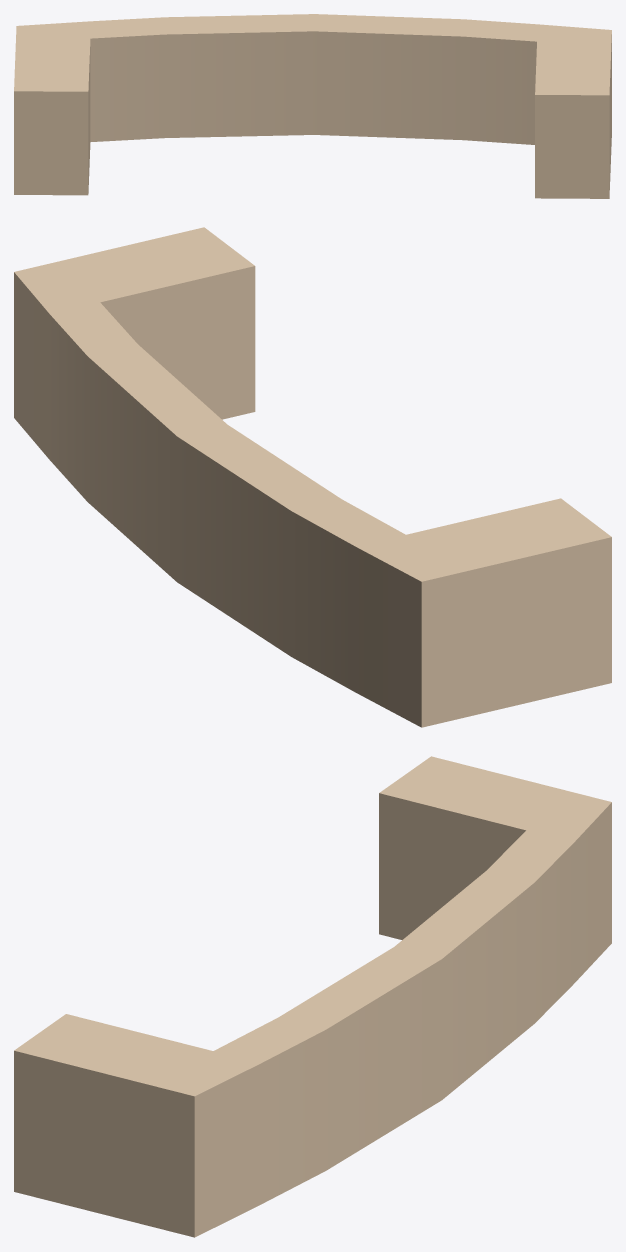
The model's file is ceiling_piece_by_door.fbx.
3 views of the same model, one above another, from view 1: azimuth 30°, elevation 25°; view 2: azimuth 150°, elevation 25°; view 3: azimuth 270°, elevation 25° (orthographic). The views are drawn at different scales.
Parts seen in each view (by area): view 1: pCube25; view 2: pCube25; view 3: pCube25.
Boxes of the visible parts, x1=… form: pCube25: x1=14, y1=14, x2=611, y2=198; pCube25: x1=14, y1=227, x2=611, y2=727; pCube25: x1=14, y1=756, x2=611, y2=1237.
Bounding box in the file's own units: 1 × 0.1946 × 0.7468.
